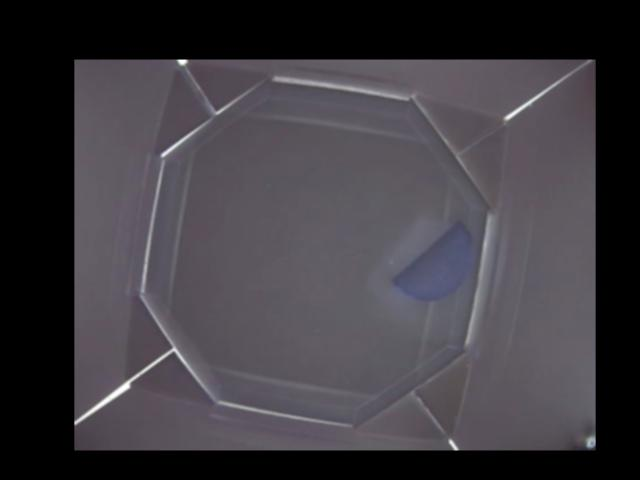Mooli: (392, 218, 472, 299)
